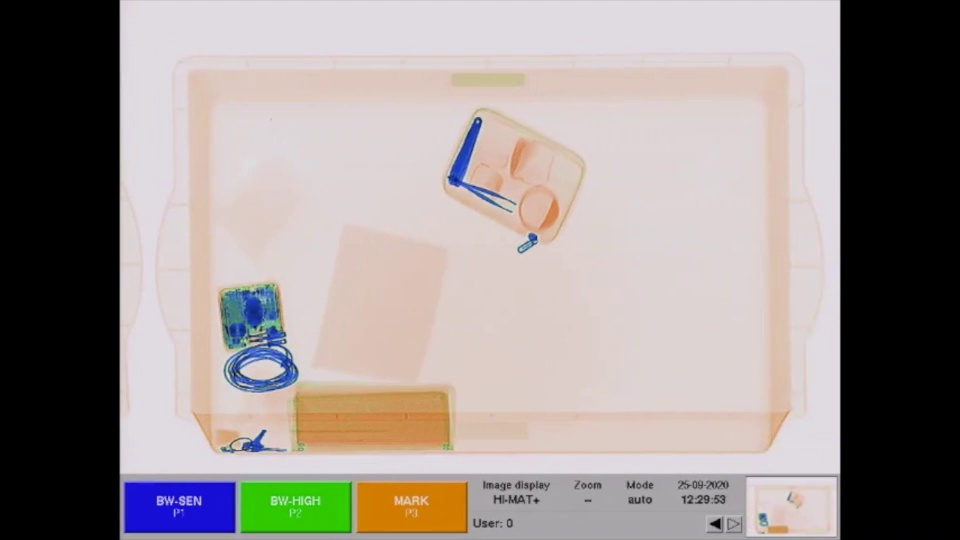tray_img: (150, 43, 830, 463)
